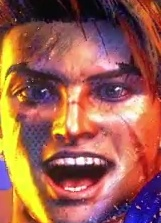kevin: (13, 16, 160, 222)
